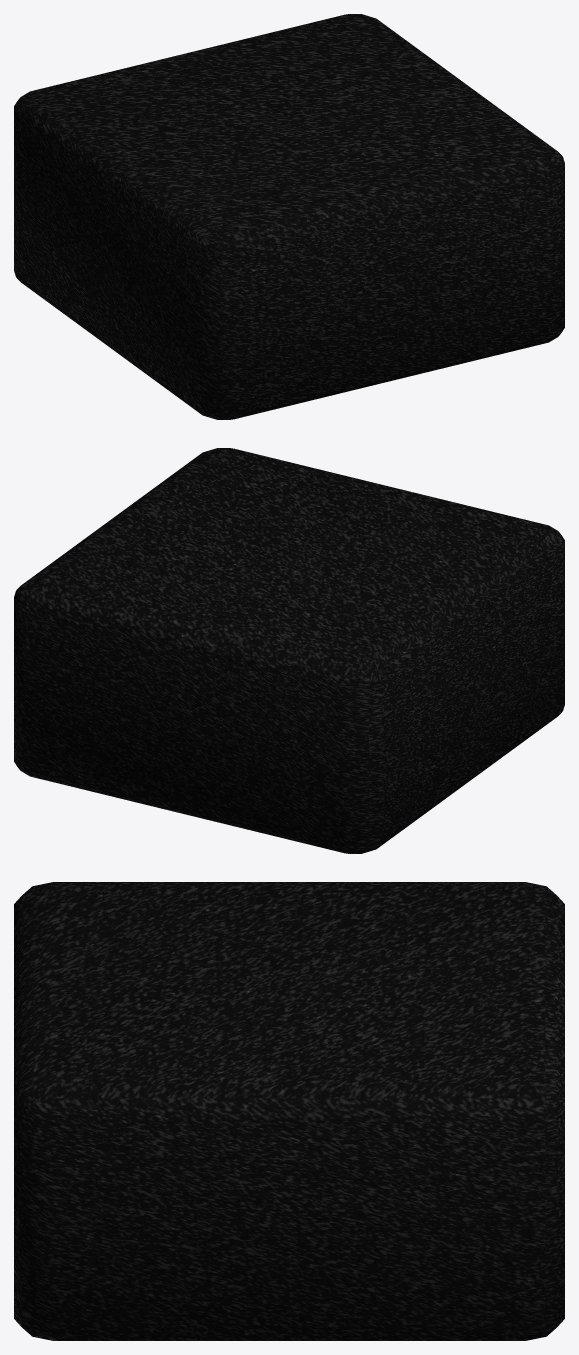
File: obstacle_half.fbx
The picture shows the model from 3 angles, top to bottom: view 1: azimuth 30°, elevation 25°; view 2: azimuth 150°, elevation 25°; view 3: azimuth 270°, elevation 25°; orthographic projection. The views are drawn at different scales.
Parts seen in each view (by area): view 1: Cube; view 2: Cube; view 3: Cube.
Boxes of the visible parts, <box> form: Cube: <box>14,14,564,419</box>; Cube: <box>14,448,564,853</box>; Cube: <box>14,882,564,1340</box>.
Size of the model in its own units: 2 by 1 by 2.
1 material, 1 textured.
